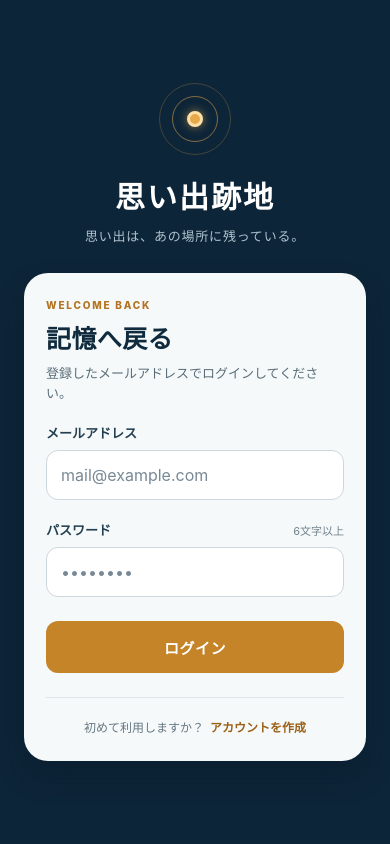
Scenario: <AuthScreen /> › 不正な表示名「」では登録しない
The image size is (390, 844).
Step 1. Click the button "アカウントを作成" → {"x": 258, "y": 726}, box [210, 718, 306, 735]
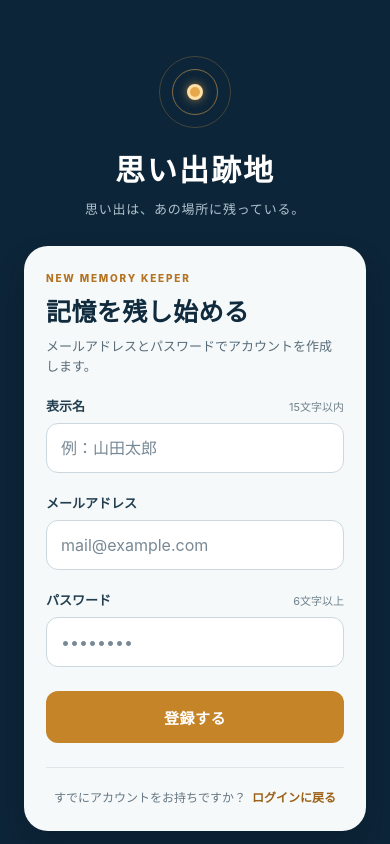
Step 2. Type "new@example.com" into the field named "メールアドレス" → {"x": 195, "y": 545}, box [46, 520, 344, 570]
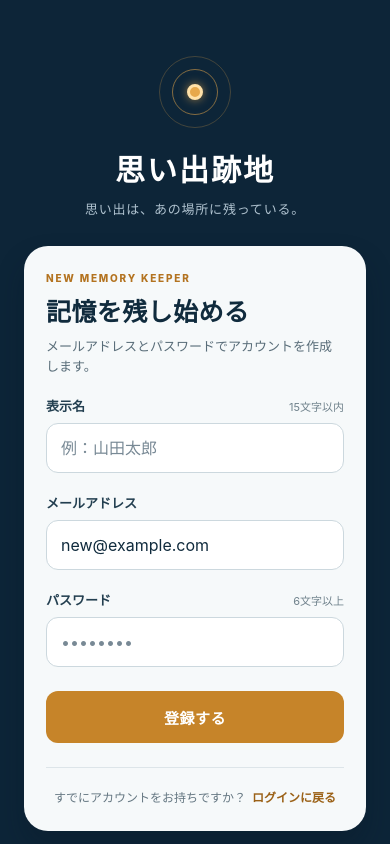
Step 3. Type "secret1" into the password field named "パスワード" → {"x": 195, "y": 642}, box [46, 617, 344, 667]
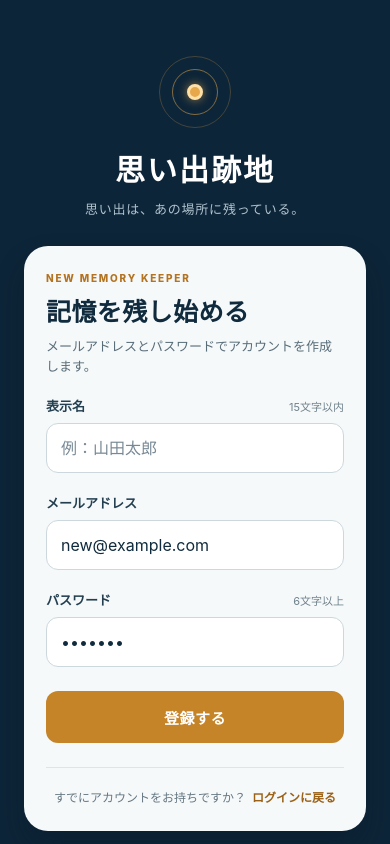
Step 4. Click the button "登録する" → {"x": 195, "y": 717}, box [46, 691, 344, 743]
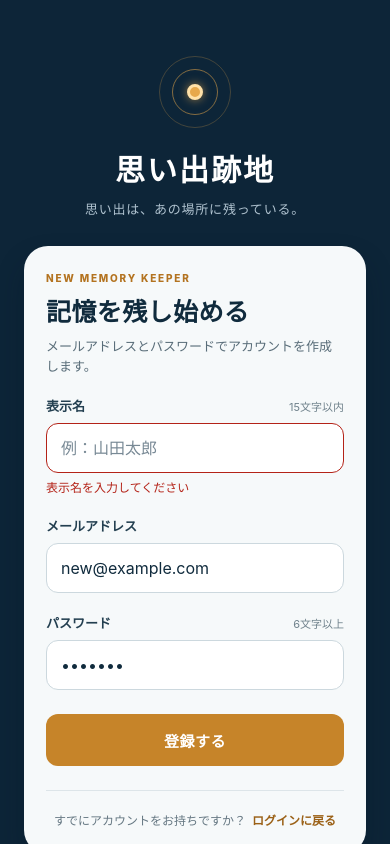
Now the text "表示名を入力してください" is shown, box [46, 480, 189, 495]
